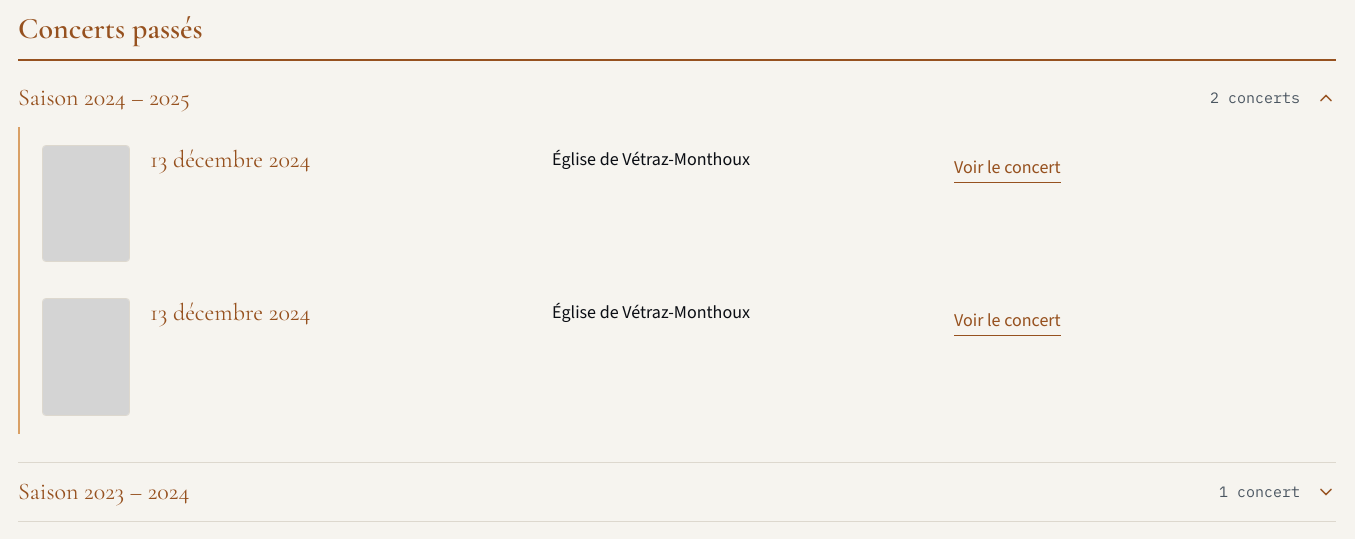
PastSeasons › should open the season the visitor clicks and close the one that was open
This screenshot has width=1355, height=539.
Click the button "Saison 2023 – 2024 1 concert": point(51, 491) [18,463,1336,521]
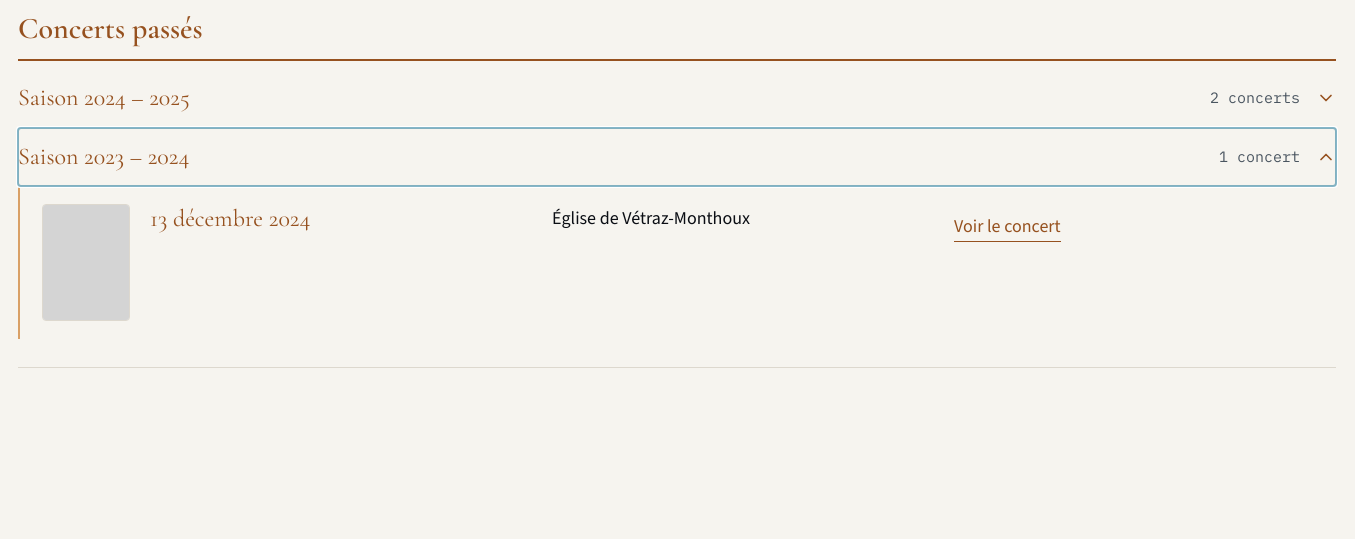
Expected: the button "Saison 2023 – 2024 1 concert" is expanded, [18,128,1336,186]
Expected: the button "Saison 2024 – 2025 2 concerts" is collapsed, [18,69,1336,127]
